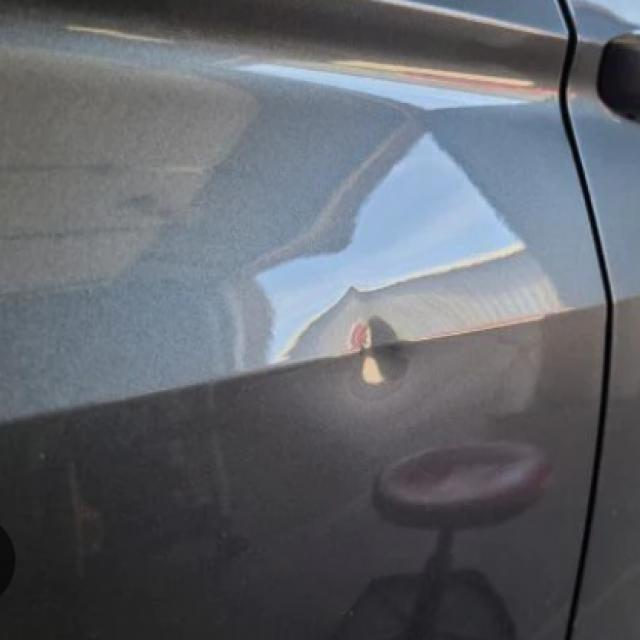dents: (321, 298, 428, 431)
